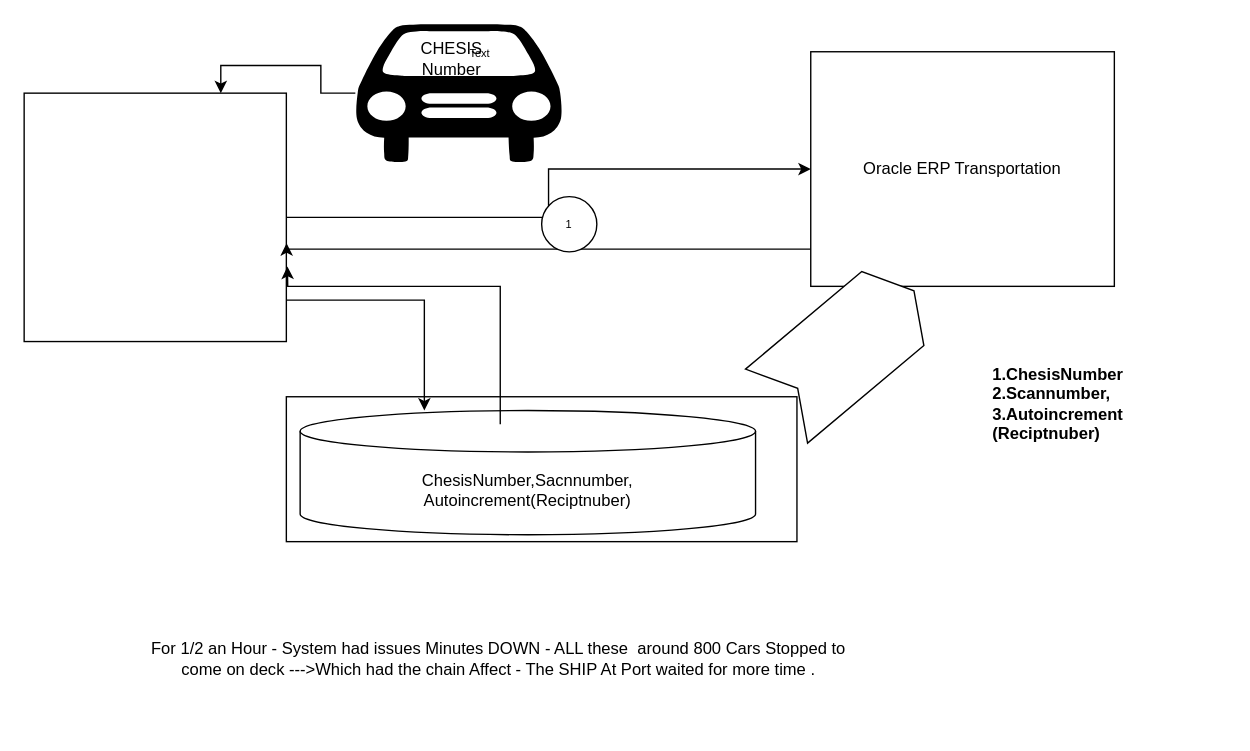
This 1250x751 diagram has some shape labels left out. The shapes that lost their labels are listed below. From the top down, each one's centre as x and y in pixels, then its label:
the point at 154,217: SHIP Scan System-Details Chesisnumber,Scannumber
the point at 844,347: OFFLINE Server
